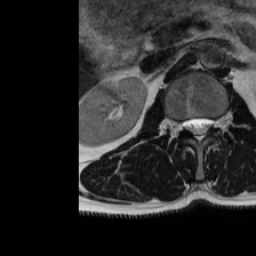CCS_normal: (194, 111, 203, 145)
LFS_normal: (212, 113, 220, 134)
LLS_normal: (204, 111, 212, 137)
RFS_normal: (177, 112, 185, 139)
RLS_normal: (185, 112, 194, 138)
